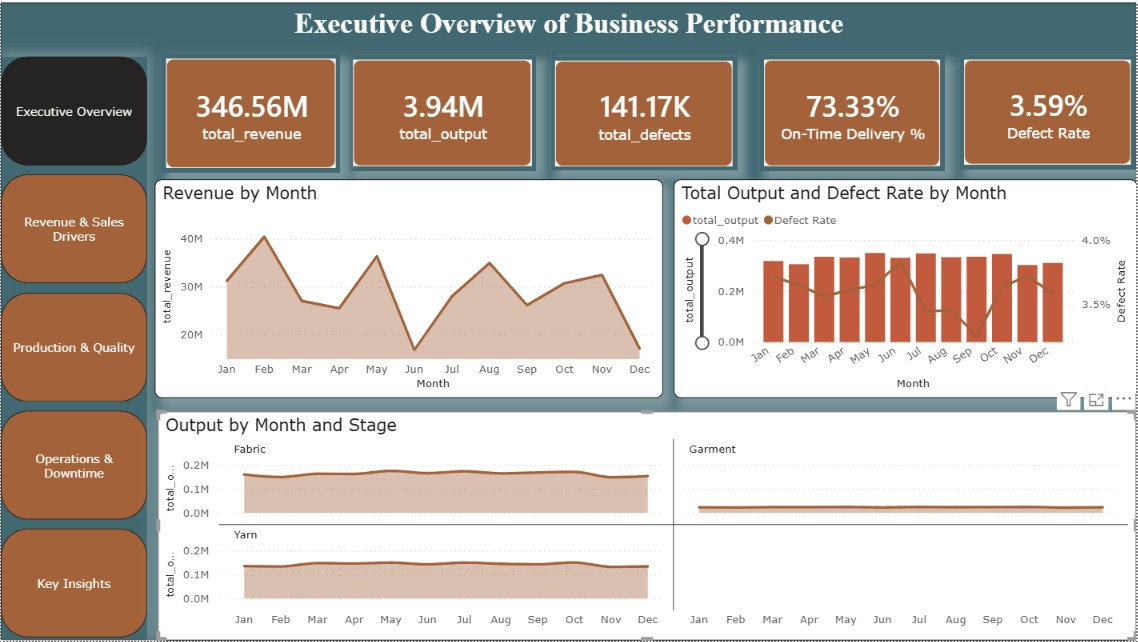

The page's visual inventory and layout, read from the dashboard file:
{"tool":"powerbi","page":{"name":"Executive Overview","canvas":[1280,720],"ordinal":0},"visuals":[{"type":"cardVisual","fields":{"Data":["measure.total_revenue"]},"box":[173.1,45.3,200.6,133.2],"z":0},{"type":"cardVisual","fields":{"Data":["measure.On-Time Delivery %"]},"box":[903.9,45.3,192.3,129.1],"z":1000},{"type":"cardVisual","fields":{"Data":["measure.total_defects"]},"box":[726.7,45.3,190.9,129.1],"z":2000},{"type":"cardVisual","fields":{"Data":["measure.total_output"]},"box":[539.9,45.3,200.6,129.1],"z":3000},{"type":"cardVisual","fields":{"Data":["measure.defect_rate"]},"box":[1081.8,46.8,198.7,128.6],"z":4000},{"type":"lineChart","title":"Output by Month and Stage","fields":{"Category":["Date.Month"],"Y":["measure.total_output"],"Rows":["Dim_Products.Stage"]},"box":[193.2,442.7,1083.4,275.1],"z":5000},{"type":"pageNavigator","box":[12.2,163.9,145.5,556.4],"z":6000},{"type":"lineChart","title":"Revenue by Month","fields":{"Category":["Date.Month"],"Y":["measure.total_revenue"]},"box":[193.5,174,603.9,254.5],"z":7000},{"type":"cardVisual","fields":{"Data":["measure.Revenue MoM %"]},"box":[358.5,45.3,195.1,129.1],"z":8000},{"type":"lineStackedColumnComboChart","title":"Total Output and Defect Rate by Month","fields":{"Category":["Date.Month"],"Y":["measure.total_output"],"Y2":["measure.defect_rate"]},"box":[822.1,175.3,454.5,253.2],"z":9000},{"type":"textbox","box":[0,0,1280.3,54.9],"z":11000},{"type":"slicer","fields":{"Values":["Date.Month"]},"box":[15.9,66,141.8,92.9],"z":11001}]}

Visuals, with their boxes in screenshot pixels (x1, y1, x2, y2), scaled from the page's 1280x720 canvas onto the 1138x642 screenshot:
cardVisual - measure.total_revenue: detection(154, 40, 332, 159)
cardVisual - measure.On-Time Delivery %: detection(804, 40, 975, 156)
cardVisual - measure.total_defects: detection(646, 40, 816, 156)
cardVisual - measure.total_output: detection(480, 40, 658, 156)
cardVisual - measure.defect_rate: detection(962, 42, 1137, 156)
"Output by Month and Stage" lineChart: detection(172, 395, 1135, 640)
pageNavigator: detection(11, 146, 140, 641)
"Revenue by Month" lineChart: detection(172, 155, 709, 382)
cardVisual - measure.Revenue MoM %: detection(319, 40, 492, 156)
"Total Output and Defect Rate by Month" lineStackedColumnComboChart: detection(731, 156, 1135, 382)
textbox: detection(0, 0, 1137, 49)
slicer - Date.Month: detection(14, 59, 140, 142)
